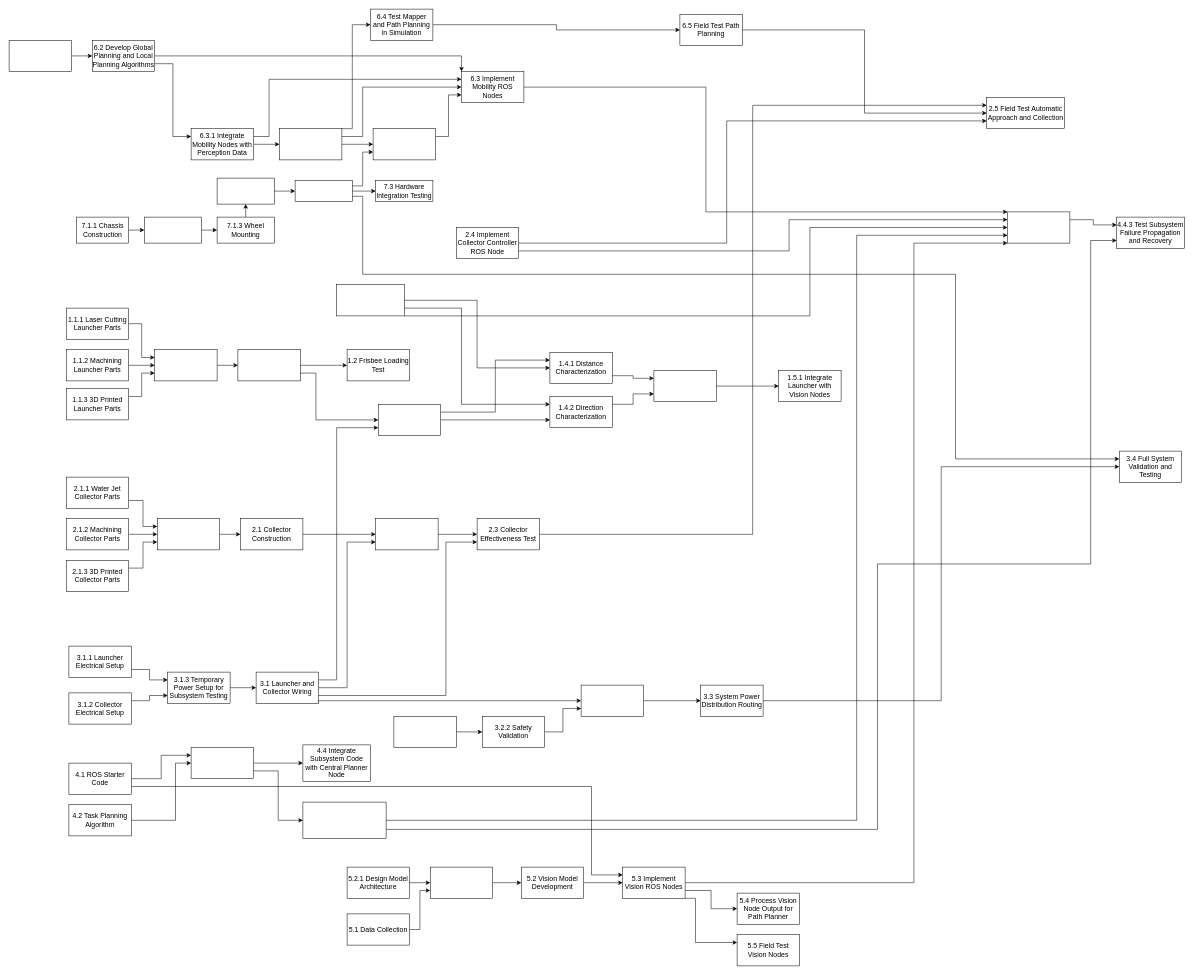
Image size: 1193x975. Some labels were removed from this diagram. The shapes that lost their labels are listed below. From the top down, each one's centre as x and y in pixels, then its label:
the point at 40,56: 6.1 Develop Mapping Algorithm
the point at 310,144: 6.3.2 Implement Mobility Fault Recovery
the point at 404,144: 6.3.3 Integrate Mobility Nodes with Mobility Hardware
the point at 245,191: 7.1 Setup Motor and Wheel
the point at 323,191: 7.2 Component Integration
the point at 173,230: 7.1.2 Motor Installation
the point at 1038,227: 4.4.2 Test Software with Subsystems Fully Implemented
the point at 370,300: 1.5 Implement Launcher Controller ROS Node
the point at 185,365: 1.1.4 Launcher Assembly
the point at 268,365: 1.1 Launcher Construction
the point at 684,386: 1.4 Launcher Characterization
the point at 409,420: 1.3 Launching Test
the point at 188,534: 2.1.4 Collector Assembly
the point at 406,534: 2.2 Collector Mechanism Test
the point at 612,700: 3.2 E-stop Integration
the point at 424,732: 3.2.1 Power Rail Construction
the point at 222,763: 4.3 Write Software Tests
the point at 344,820: 4.4.1 Simulate Behavior Tree without Subsystems Implemented
the point at 461,882: 5.2.2 Train and Evaluate Vision Models
